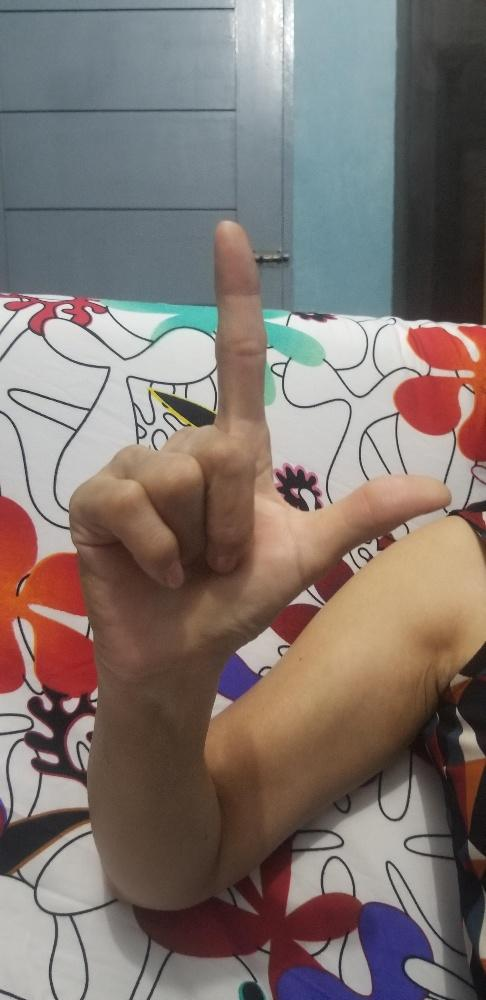l: (67, 213, 453, 683)
